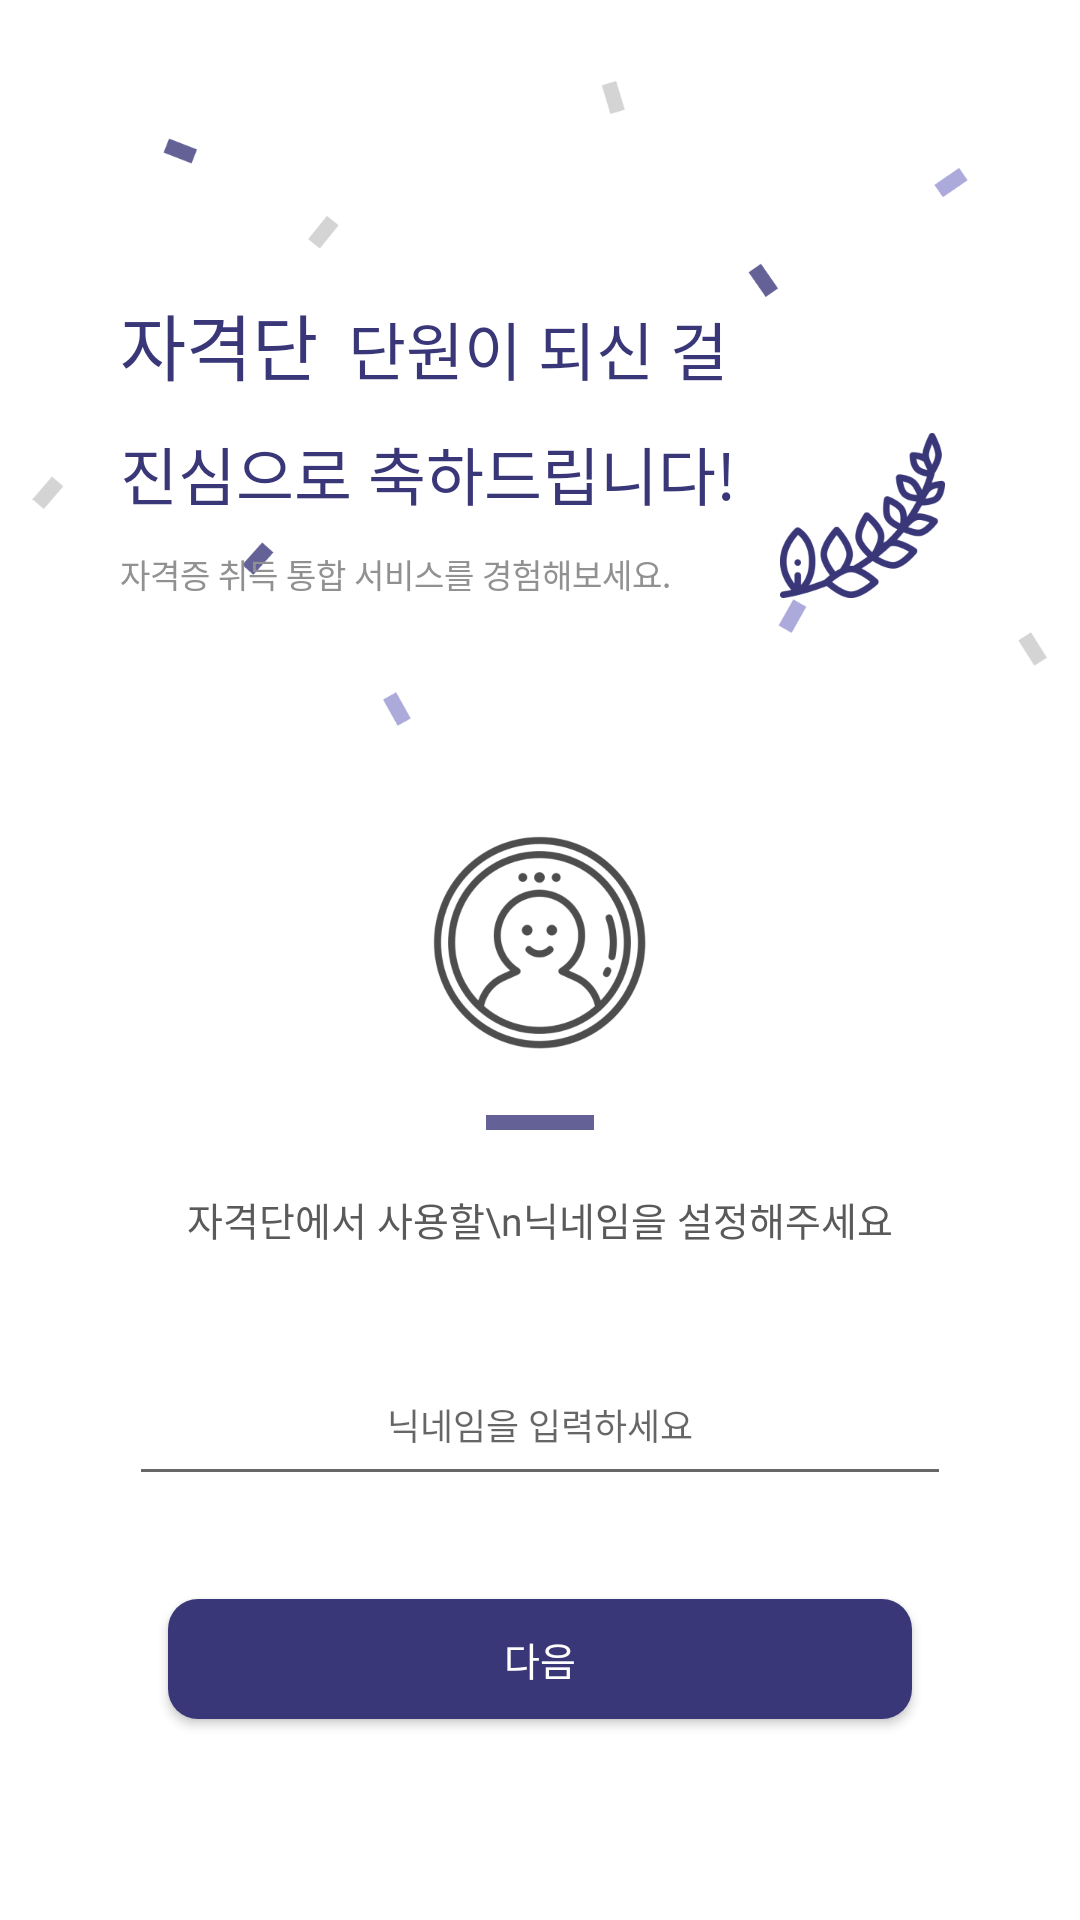

Locate icon controls on the screen. Image size 1080x1920, boxes as (x1, y1, x2, y2).
leaf: (780, 433, 945, 598)
